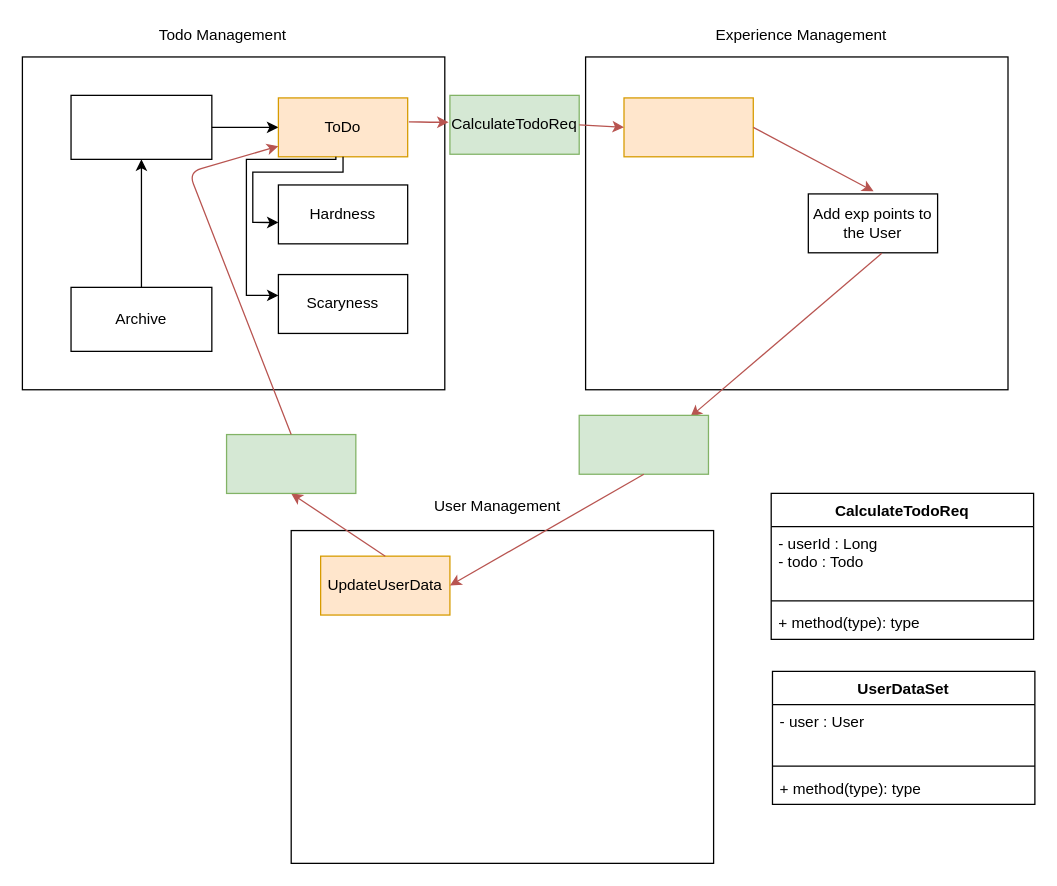
Some shapes in this 1057 by 886 pixel diagram are drawn without their labels. Here are the shapes that lost their labels. From the top down, the centre of each, then its label:
At (141,126): "TodoBlock".
At (688,127): "CalculateExp".
At (290,463): "UpdateTodo. MakeReady".
At (643,444): "UpdateDataReq".
